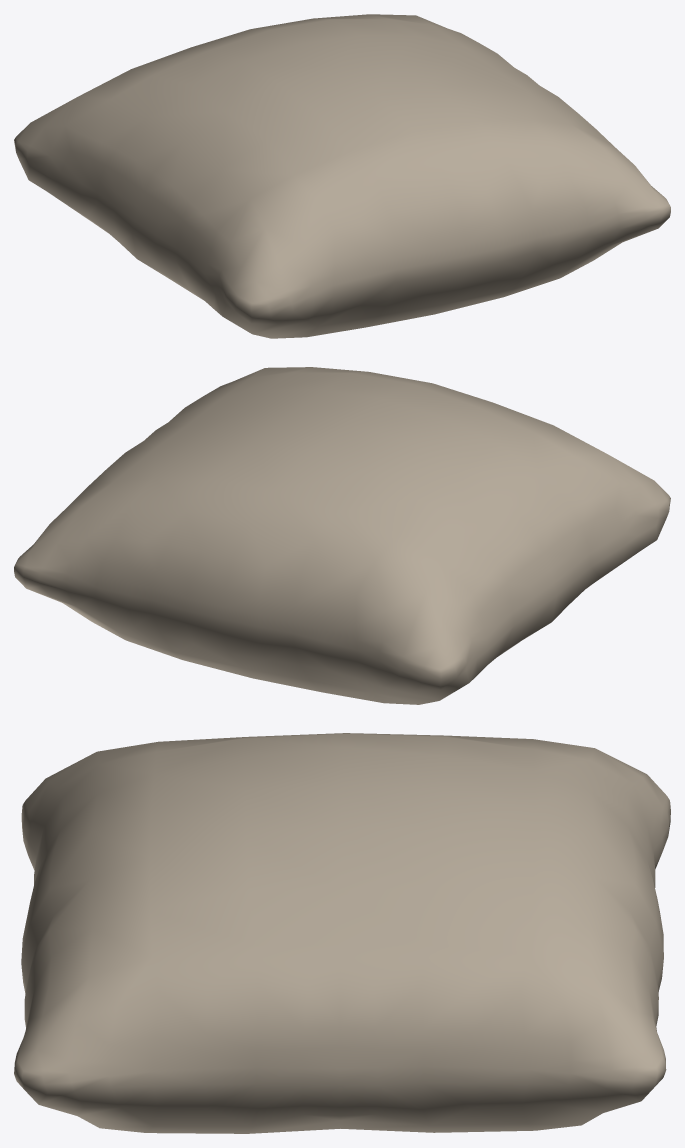
The picture shows the model from 3 angles, top to bottom: view 1: azimuth 30°, elevation 25°; view 2: azimuth 150°, elevation 25°; view 3: azimuth 270°, elevation 25°; orthographic projection. The views are drawn at different scales.
Bounding box in the file's own units: 6.84 × 3 × 6.51.
1 material, 1 textured.
